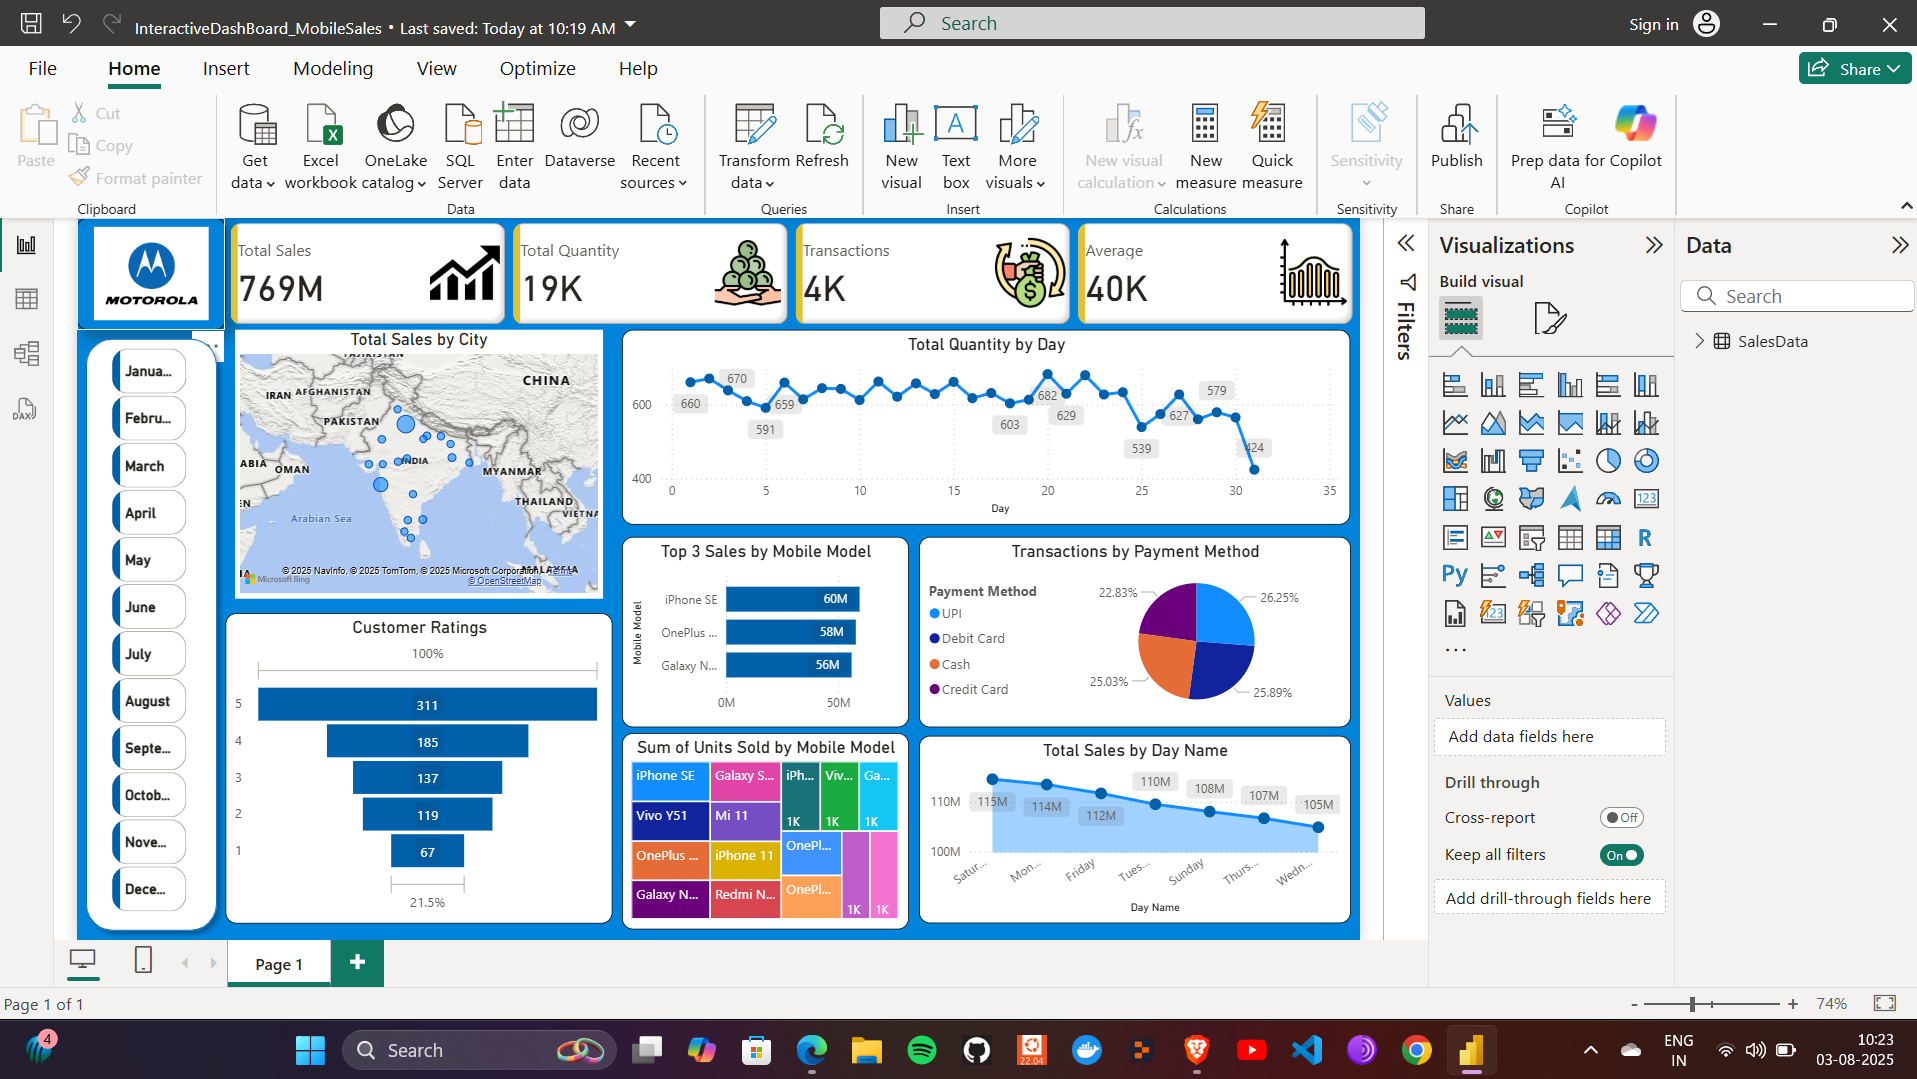

What the dashboard file says about the page in this screenshot:
{"tool":"powerbi","page":{"name":"Page 1","canvas":[1280,720],"ordinal":0},"visuals":[{"type":"shape","box":[0,111.4,148.6,608.6],"z":1000},{"type":"advancedSlicerVisual","fields":{"Values":["SalesData.Date.Variation.Date Hierarchy.Month"]},"box":[32.6,126.5,84.3,578.1],"z":2000},{"type":"cardVisual","fields":{"Data":["SalesData.Total Sales","SalesData.Total Quantity","SalesData.Transactions","SalesData.Average"]},"box":[15,0,1256.9,111.5],"z":3000},{"type":"lineChart","fields":{"Category":["SalesData.Date.Variation.Date Hierarchy.Month","SalesData.Date.Variation.Date Hierarchy.Day"],"Y":["SalesData.Total Quantity"]},"box":[544.4,111.1,726.4,194.4],"z":4000},{"type":"clusteredBarChart","title":"Top 3 Sales by Mobile Model","fields":{"Category":["SalesData.Mobile Model"],"Y":["SalesData.Total Sales"]},"box":[544.4,318.1,286.1,190.3],"z":5000},{"type":"pieChart","fields":{"Category":["SalesData.Payment Method"],"Y":["SalesData.Transactions"]},"box":[840.3,318.1,430.6,190.3],"z":6000},{"type":"funnel","title":" Customer Ratings","fields":{"Category":["SalesData.Customer Ratings"],"Y":["CountNonNull(SalesData.Customer Ratings)"]},"box":[148.6,394.4,386.1,309.7],"z":7000},{"type":"areaChart","fields":{"Category":["SalesData.Day Name"],"Y":["SalesData.Total Sales"]},"box":[840.7,514.2,429.8,195.9],"z":8000},{"type":"treemap","fields":{"Group":["SalesData.Mobile Model"],"Values":["Sum(SalesData.Units Sold)"]},"box":[544.4,513.9,286.1,195.8],"z":9000},{"type":"map","fields":{"Category":["SalesData.City"],"Size":["SalesData.Total Sales"]},"box":[157.7,111.5,367,267.8],"z":10000}]}

Visuals, with their boxes on the page's 1280x720 design canvas (x1, y1, x2, y2). These are canvas units, not pixel positions in the 1917x1079 screenshot, which may show the page scaled, cropped or inside an application window:
shape: 0:111:149:720
advancedSlicerVisual - SalesData.Date.Variation.Date Hierarchy.Month: 33:126:117:705
cardVisual - SalesData.Total Sales x SalesData.Total Quantity: 15:0:1272:112
lineChart - SalesData.Date.Variation.Date Hierarchy.Month x SalesData.Date.Variation.Date Hierarchy.Day: 544:111:1271:306
"Top 3 Sales by Mobile Model" clusteredBarChart: 544:318:830:508
pieChart - SalesData.Payment Method x SalesData.Transactions: 840:318:1271:508
" Customer Ratings" funnel: 149:394:535:704
areaChart - SalesData.Day Name x SalesData.Total Sales: 841:514:1270:710
treemap - SalesData.Mobile Model x Sum(SalesData.Units Sold): 544:514:830:710
map - SalesData.City x SalesData.Total Sales: 158:112:525:379
